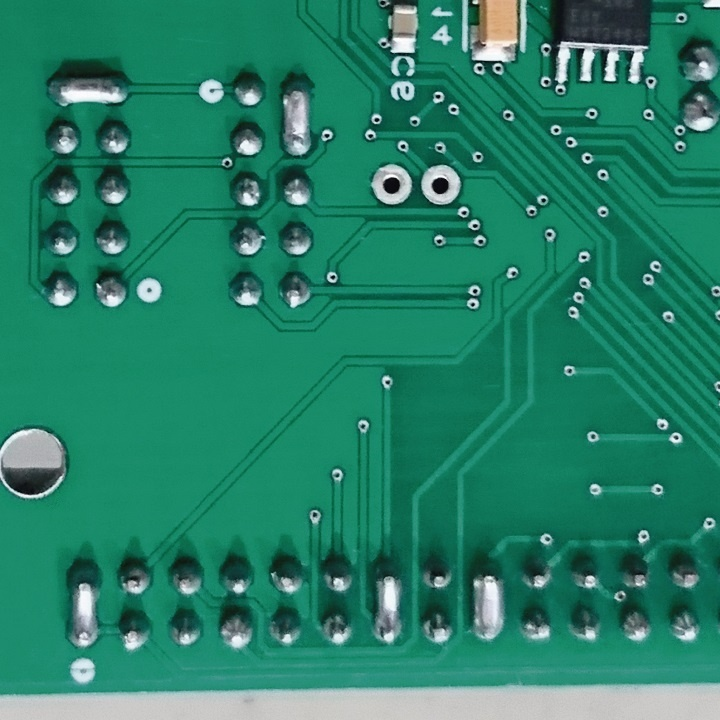F: (417, 160, 462, 208), (369, 160, 413, 208)
P: (61, 555, 105, 654), (364, 551, 405, 653), (275, 72, 319, 161), (469, 555, 510, 649), (45, 70, 133, 111)
